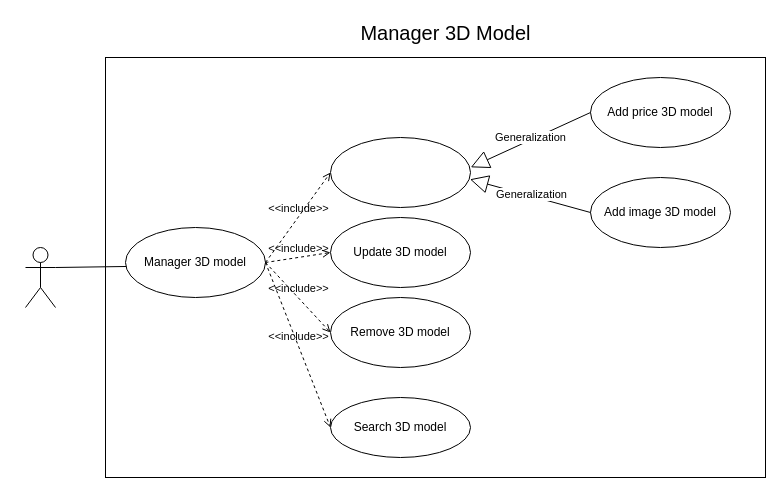
The diagram is 783 pixels wide and 495 high, and some of its shapes have lost their labels. The shapes that lost their labels are listed below. From the top down, each one's centre as x and y in pixels, then its label:
the point at 400,172: Add 3D model
the point at 40,277: Manager
